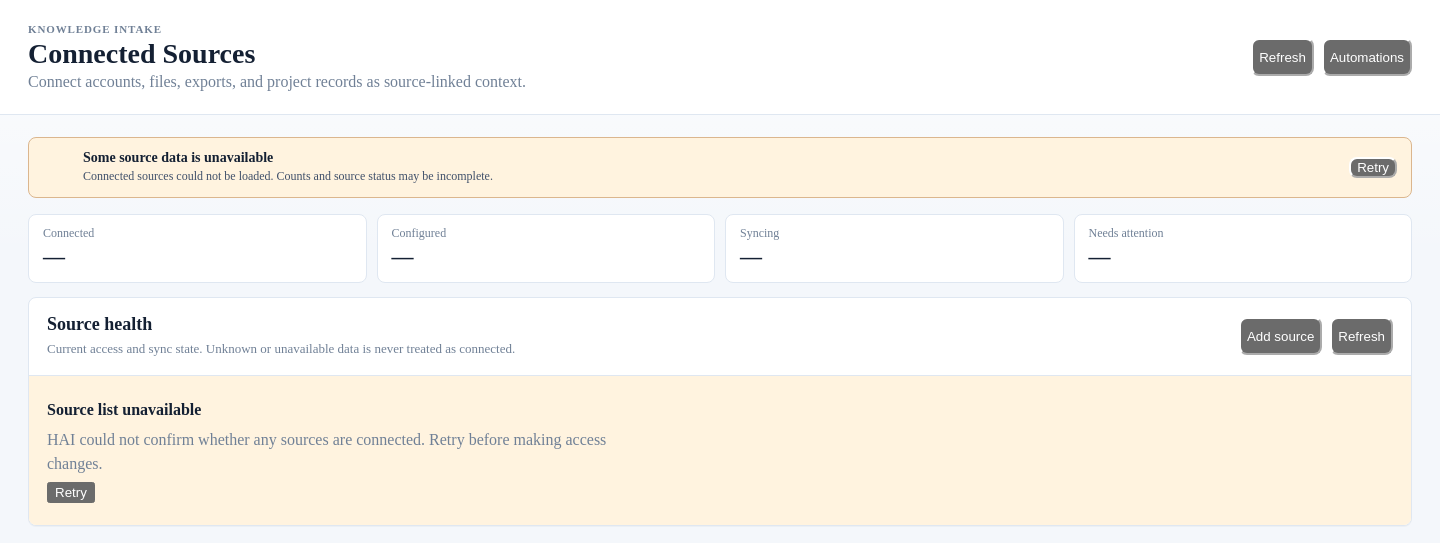
Test case: ConnectedSourcesComponent pursuit handoff › keeps a failed source load distinct from empty, then retries into a confirmed empty state
Expected: the element with test id "sources-basic-view" shows "Source list unavailable", 47,401 -> 201,418
Expected: the element with test id "sources-basic-view" does not show "No connected sources"
Click the button "Retry" below "Source list unavailable".
click(71, 492)  # box 47,482 -> 95,503
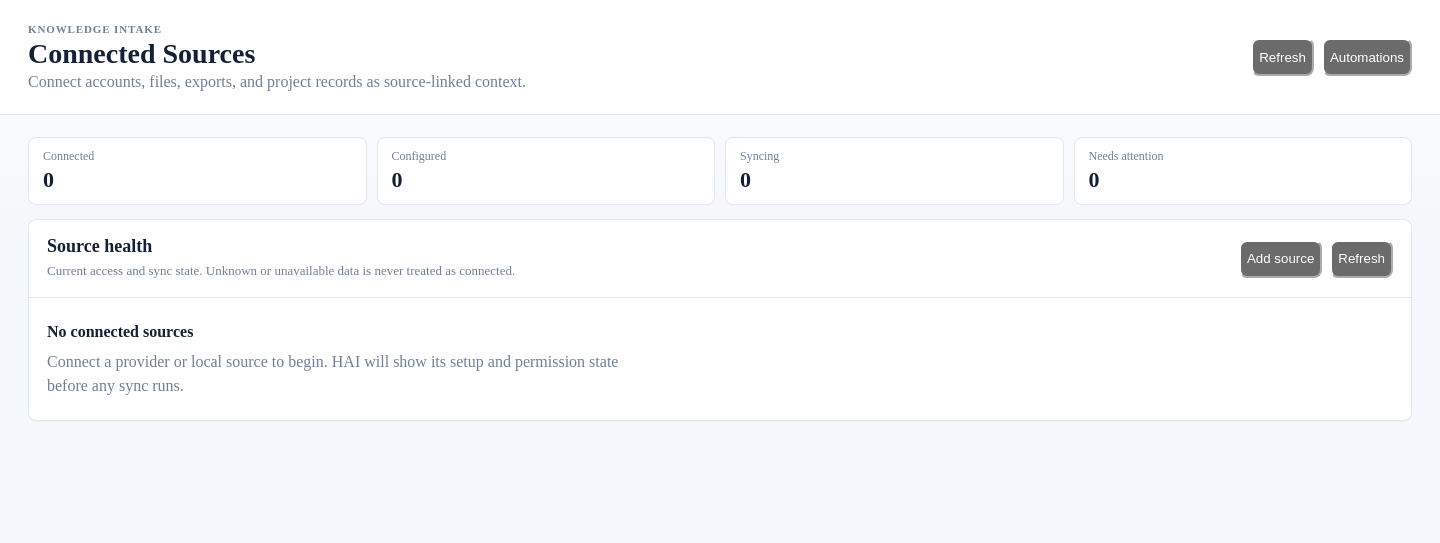
Now the element with test id "sources-basic-view" shows "No connected sources", box 47,323 -> 193,340
Now the text with test id "sources-basic-view" no longer shows "Source list unavailable"
